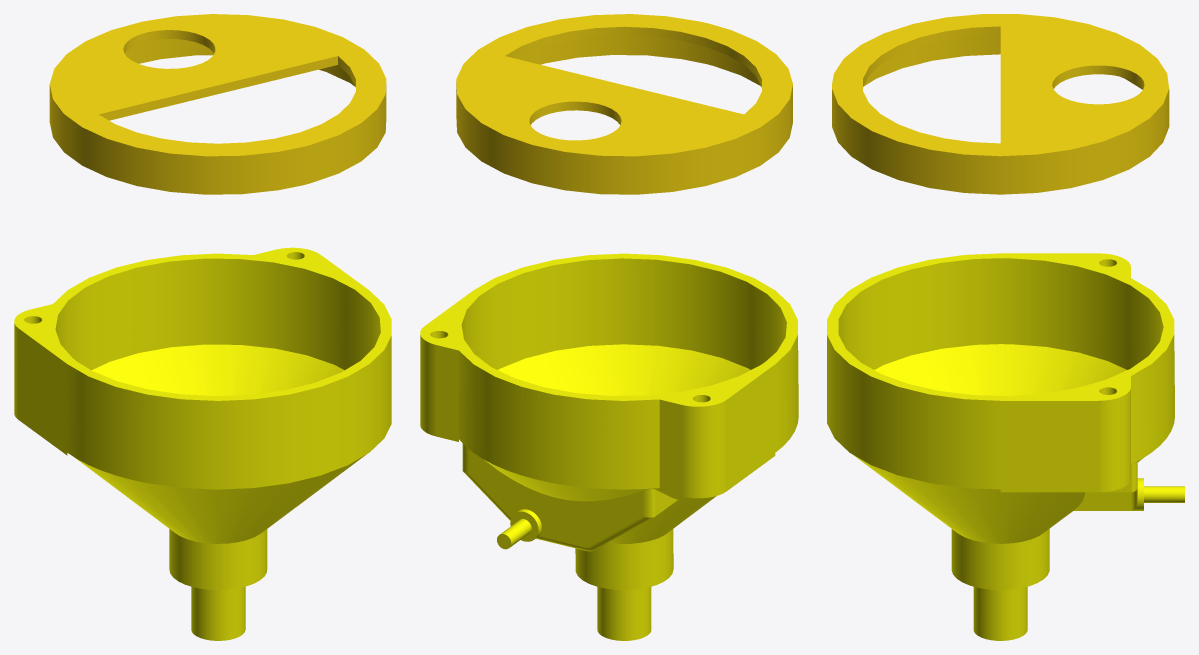
File: FruiFlyDispenser-Tank.gltf
The picture shows the model from 3 angles, left to right: view 1: azimuth 30°, elevation 25°; view 2: azimuth 150°, elevation 25°; view 3: azimuth 270°, elevation 25°; orthographic projection.
Visible parts, largest first — view 1: mesh40_meshnode_40, mesh38_meshnode_38, mesh8_meshnode_8, mesh9_meshnode_9, mesh37_meshnode_37, mesh29_meshnode_29, mesh52_meshnode_52, mesh31_meshnode_31, mesh49_meshnode_49, mesh33_meshnode_33, mesh7_meshnode_7, mesh11_meshnode_11 (+1 smaller); view 2: mesh38_meshnode_38, mesh8_meshnode_8, mesh47_meshnode_47, mesh9_meshnode_9, mesh37_meshnode_37, mesh52_meshnode_52, mesh25_meshnode_25, mesh49_meshnode_49, mesh31_meshnode_31, mesh11_meshnode_11, mesh51_meshnode_51, mesh29_meshnode_29 (+7 smaller); view 3: mesh38_meshnode_38, mesh8_meshnode_8, mesh40_meshnode_40, mesh9_meshnode_9, mesh37_meshnode_37, mesh41_meshnode_41, mesh29_meshnode_29, mesh52_meshnode_52, mesh31_meshnode_31, mesh47_meshnode_47, mesh42_meshnode_42, mesh33_meshnode_33 (+5 smaller).
Part boxes in pixels (left/top/right/bottom): mesh40_meshnode_40: left=67, top=336, right=391, bottom=489; mesh38_meshnode_38: left=55, top=258, right=380, bottom=370; mesh8_meshnode_8: left=50, top=14, right=386, bottom=156; mesh9_meshnode_9: left=49, top=84, right=386, bottom=194; mesh37_meshnode_37: left=92, top=344, right=344, bottom=395; mesh29_meshnode_29: left=75, top=454, right=366, bottom=543; mesh52_meshnode_52: left=14, top=247, right=391, bottom=400; mesh31_meshnode_31: left=169, top=529, right=267, bottom=589; mesh49_meshnode_49: left=18, top=328, right=67, bottom=455; mesh33_meshnode_33: left=191, top=586, right=245, bottom=640; mesh7_meshnode_7: left=99, top=56, right=337, bottom=120; mesh11_meshnode_11: left=125, top=39, right=354, bottom=86; mesh38_meshnode_38: left=461, top=258, right=786, bottom=369; mesh8_meshnode_8: left=456, top=14, right=792, bottom=156; mesh47_meshnode_47: left=459, top=351, right=659, bottom=489; mesh9_meshnode_9: left=456, top=81, right=792, bottom=194; mesh37_meshnode_37: left=498, top=344, right=750, bottom=395; mesh52_meshnode_52: left=420, top=253, right=797, bottom=406; mesh25_meshnode_25: left=469, top=450, right=642, bottom=547; mesh49_meshnode_49: left=726, top=364, right=775, bottom=490; mesh31_meshnode_31: left=575, top=529, right=673, bottom=590; mesh11_meshnode_11: left=516, top=35, right=760, bottom=85; mesh51_meshnode_51: left=682, top=400, right=726, bottom=498; mesh29_meshnode_29: left=484, top=460, right=716, bottom=543; mesh38_meshnode_38: left=838, top=258, right=1163, bottom=369; mesh8_meshnode_8: left=832, top=14, right=1168, bottom=156; mesh40_meshnode_40: left=827, top=335, right=1000, bottom=489; mesh9_meshnode_9: left=832, top=89, right=1169, bottom=194; mesh37_meshnode_37: left=874, top=344, right=1126, bottom=395; mesh41_meshnode_41: left=1000, top=401, right=1098, bottom=492; mesh29_meshnode_29: left=853, top=455, right=1142, bottom=543; mesh52_meshnode_52: left=827, top=253, right=1174, bottom=400; mesh31_meshnode_31: left=951, top=529, right=1049, bottom=590; mesh47_meshnode_47: left=1131, top=335, right=1174, bottom=464; mesh42_meshnode_42: left=1098, top=388, right=1130, bottom=492; mesh33_meshnode_33: left=973, top=586, right=1027, bottom=640.
Size of what is drawn, in the model's own units: 0.0642 by 0.1105 by 0.0658.
